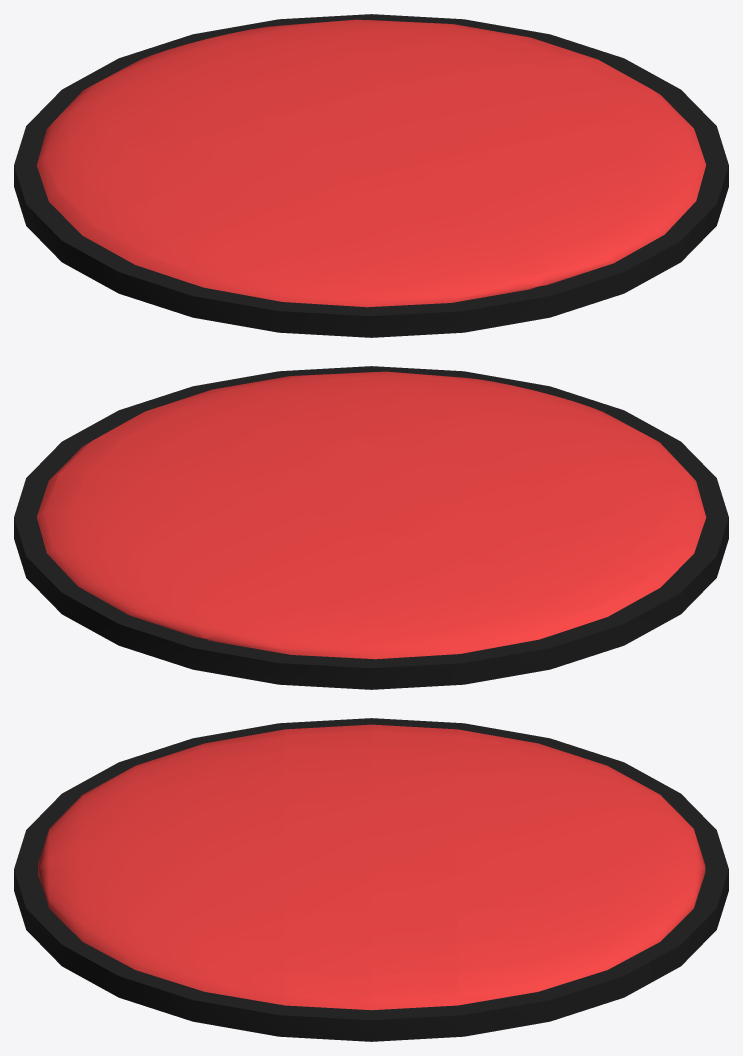
File: pressurePlate.fbx
3 renders of one model, top to bottom at view 1: azimuth 30°, elevation 25°; view 2: azimuth 150°, elevation 25°; view 3: azimuth 270°, elevation 25°, orthographic.
Visible parts, largest first — view 1: sphere_dome_14, cylinder_hollow_13; view 2: sphere_dome_14, cylinder_hollow_13; view 3: sphere_dome_14, cylinder_hollow_13.
Boxes of the visible parts, box(x1,y1,x2,y2) form: sphere_dome_14: box(36, 19, 705, 307); cylinder_hollow_13: box(14, 14, 728, 337); sphere_dome_14: box(37, 371, 706, 659); cylinder_hollow_13: box(14, 366, 728, 689); sphere_dome_14: box(38, 724, 705, 1010); cylinder_hollow_13: box(14, 718, 728, 1041).
Size of the model in its own units: 30 by 2.5 by 30.
